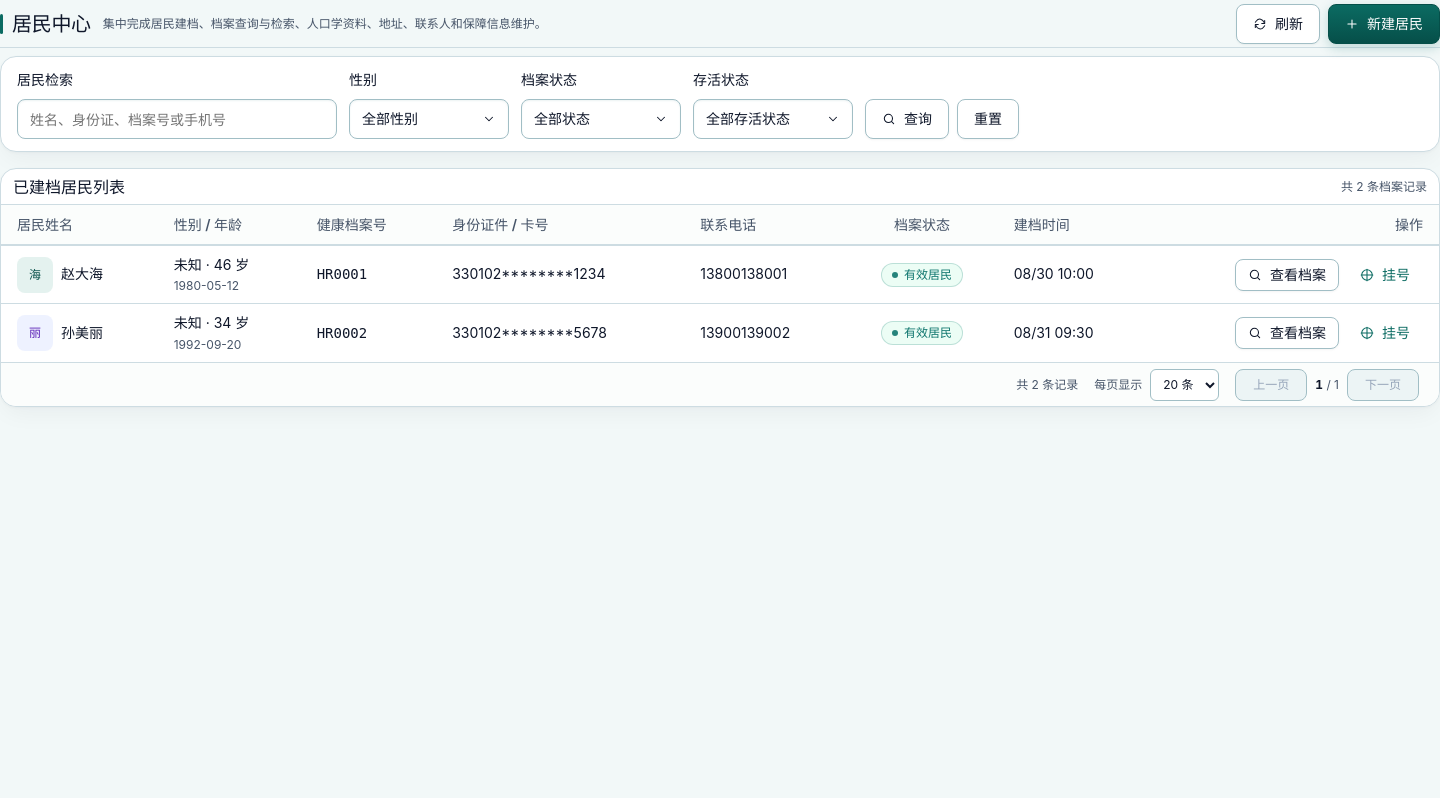
Test: ResidentCenterWorkspace › uses current profile status INACTIVE instead of claiming an effective resident
Click the button "查看档案" in the row of "赵大海".
click(1287, 275)  # box [1235,259,1339,291]
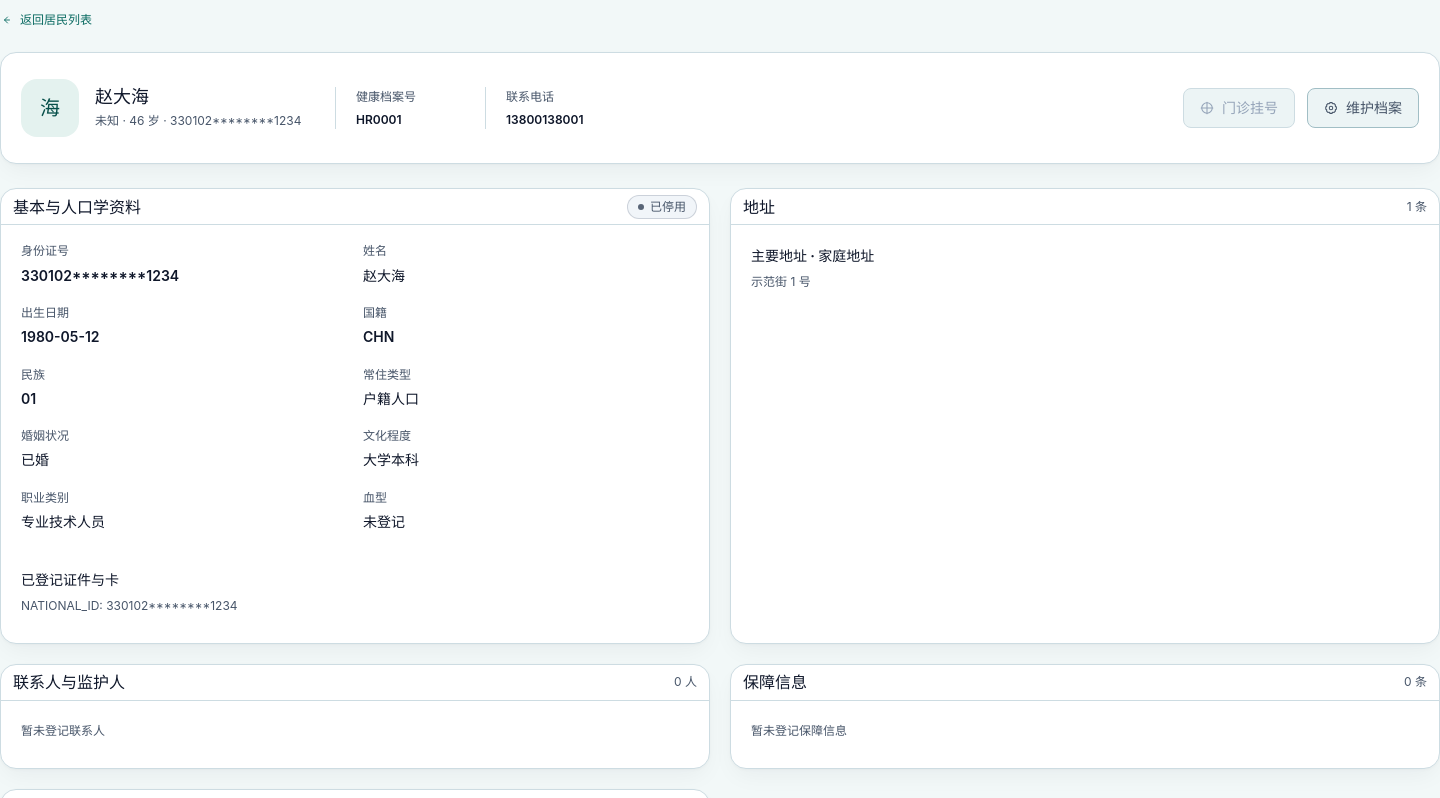
Expected: the text "已停用" is shown, [627,195,697,219]
Expected: the text "有效居民" is gone
Expected: the button "门诊挂号" is disabled, [1183,88,1295,128]
